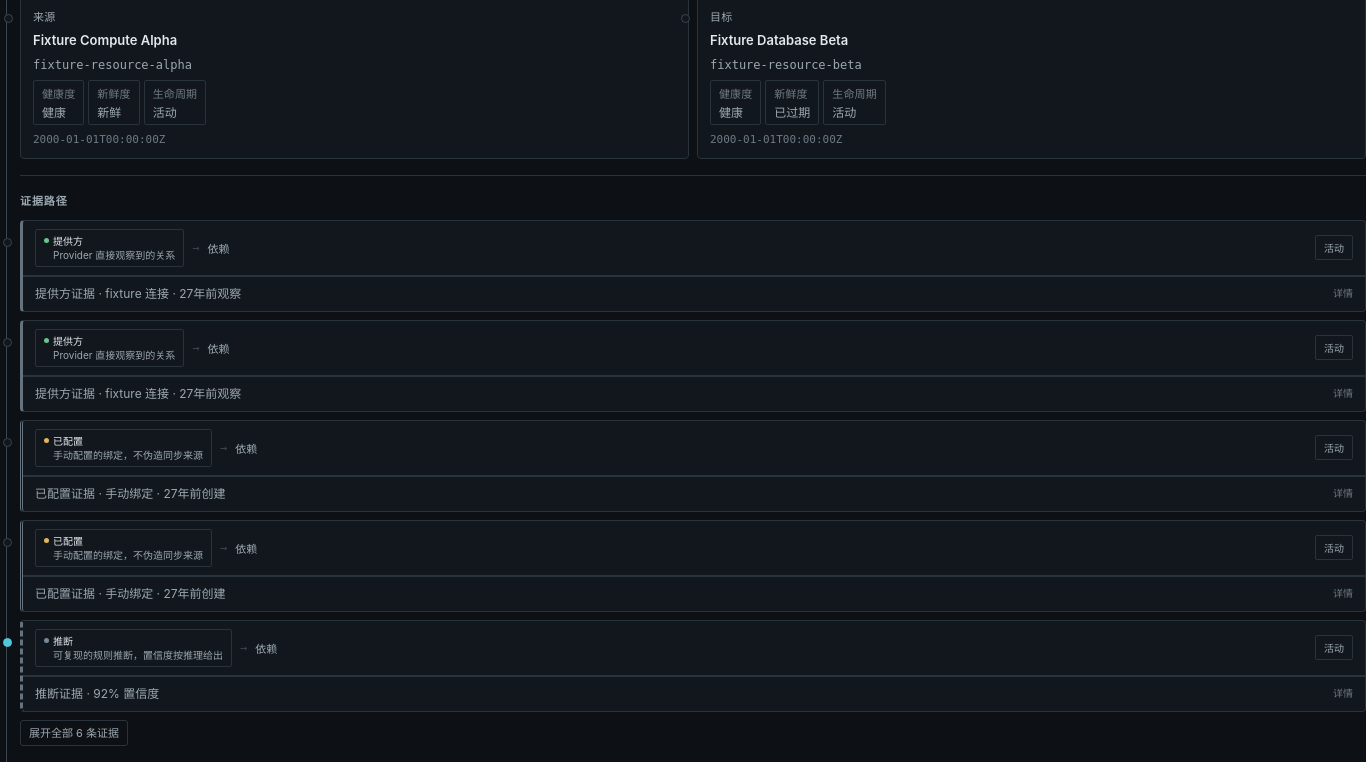
Test case: EvidenceSpine › collapses paths longer than five rows behind an expand toggle
(page scrolled)
Expected: the number of elements named " evidence" is 5, [20, 220, 1365, 312]; [20, 320, 1365, 412]; [20, 420, 1365, 512]; [20, 520, 1365, 612]; [20, 620, 1365, 712]
Click the button "展开全部 6 条证据" at (74, 733), box [20, 720, 128, 746]
(page scrolled)
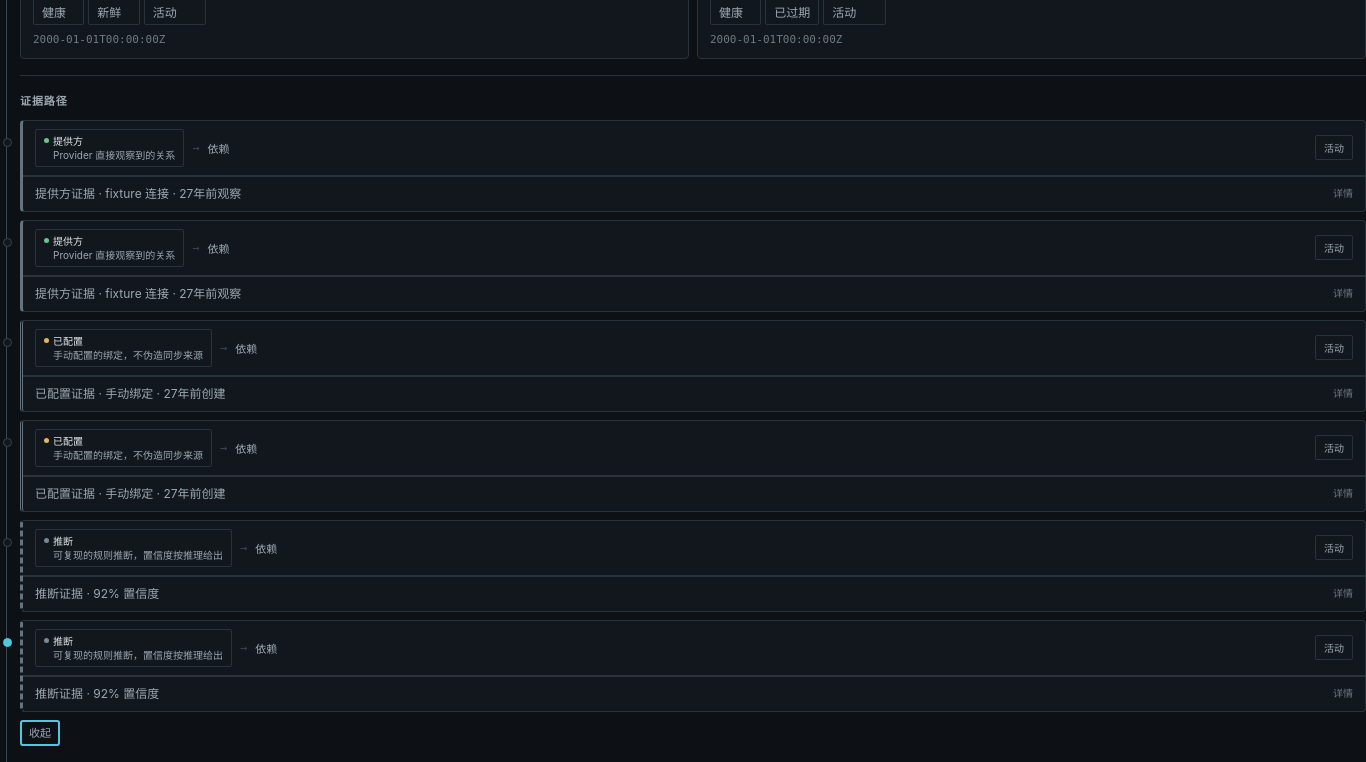
Now the number of elements named " evidence" is 6, box [20, 120, 1365, 212]; [20, 220, 1365, 312]; [20, 320, 1365, 412]; [20, 420, 1365, 512]; [20, 520, 1365, 612]; [20, 620, 1365, 712]
Now the button "收起" is shown
Click the button "收起" at (40, 733), box [20, 720, 60, 746]
(page scrolled)
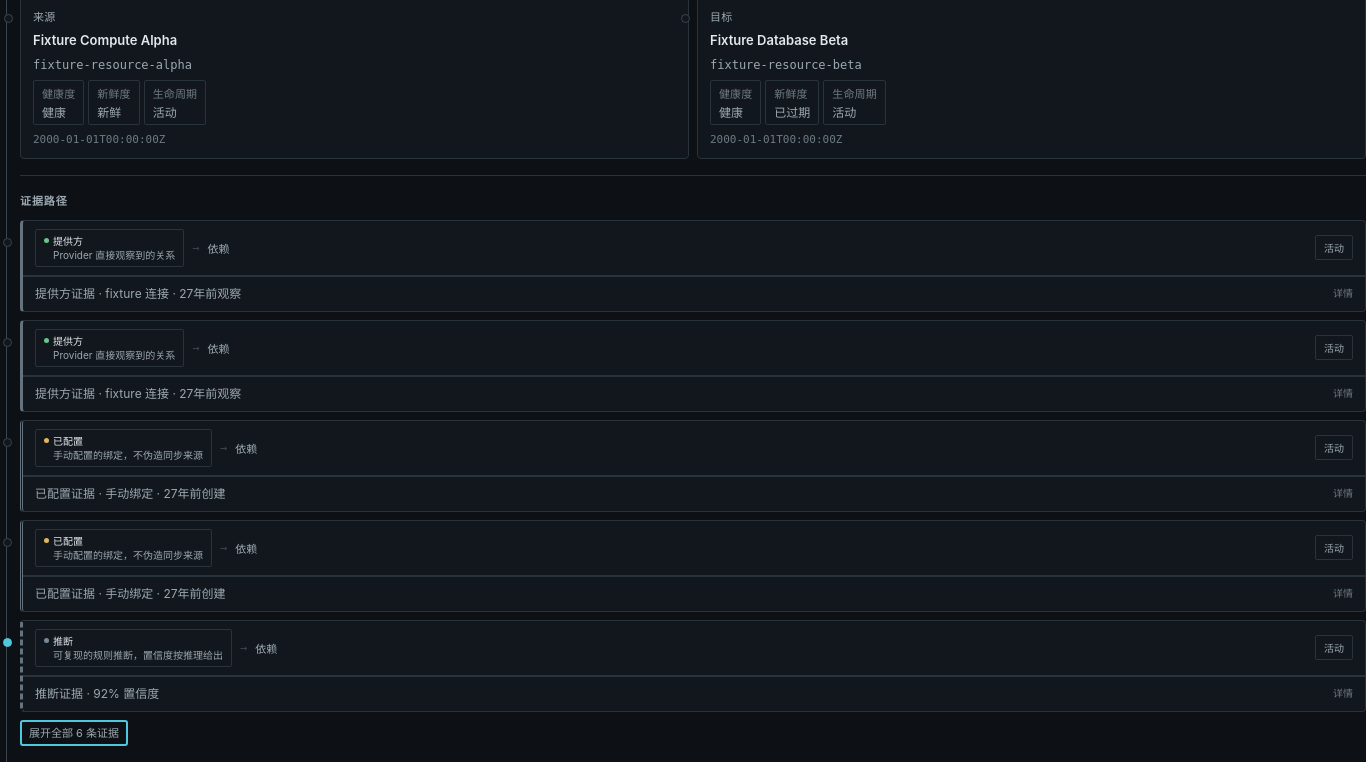
Now the number of elements named " evidence" is 5, box [20, 220, 1365, 312]; [20, 320, 1365, 412]; [20, 420, 1365, 512]; [20, 520, 1365, 612]; [20, 620, 1365, 712]
